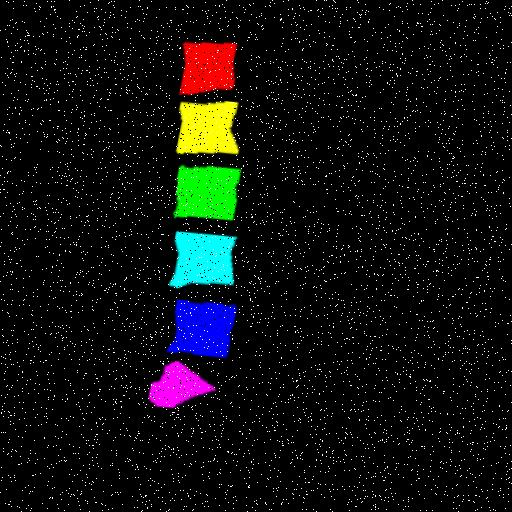L1: (180, 44, 236, 96)
L2: (179, 104, 241, 157)
L3: (176, 168, 242, 222)
L4: (174, 233, 240, 288)
L5: (173, 301, 242, 359)
S1: (155, 363, 222, 409)
